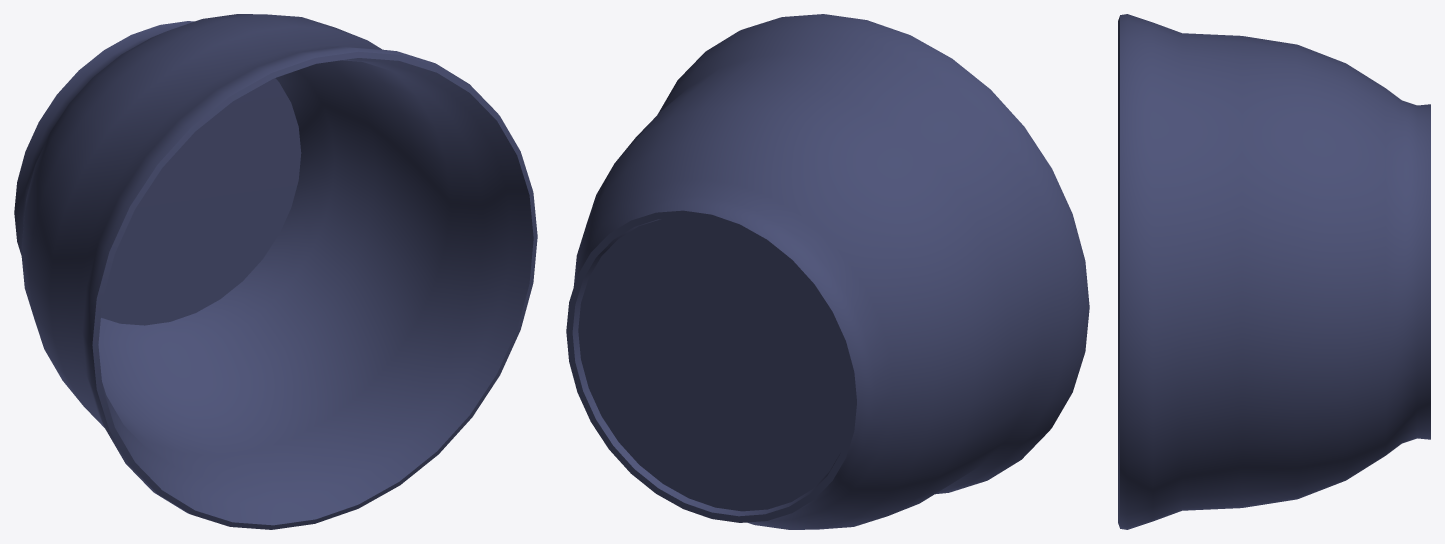
File: MeshBowl_9_0_GeomSubset_0.obj
3 renders of one model, left to right at view 1: azimuth 30°, elevation 25°; view 2: azimuth 150°, elevation 25°; view 3: azimuth 270°, elevation 25°, orthographic.
Parts seen in each view (by area): view 1: MeshBowl_9_0_GeomSubset_0; view 2: MeshBowl_9_0_GeomSubset_0; view 3: MeshBowl_9_0_GeomSubset_0.
Part boxes in pixels (<box>): MeshBowl_9_0_GeomSubset_0: <box>14,14,537,529</box>; MeshBowl_9_0_GeomSubset_0: <box>566,14,1089,529</box>; MeshBowl_9_0_GeomSubset_0: <box>1118,14,1430,529</box>.
Size of the model in its own units: 0.1911 by 0.1911 by 0.1157.
